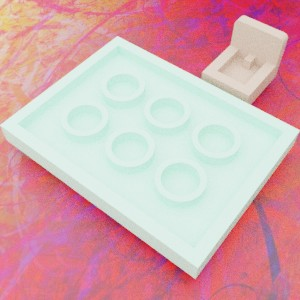lego: (0, 36, 299, 279), (200, 15, 287, 111)
